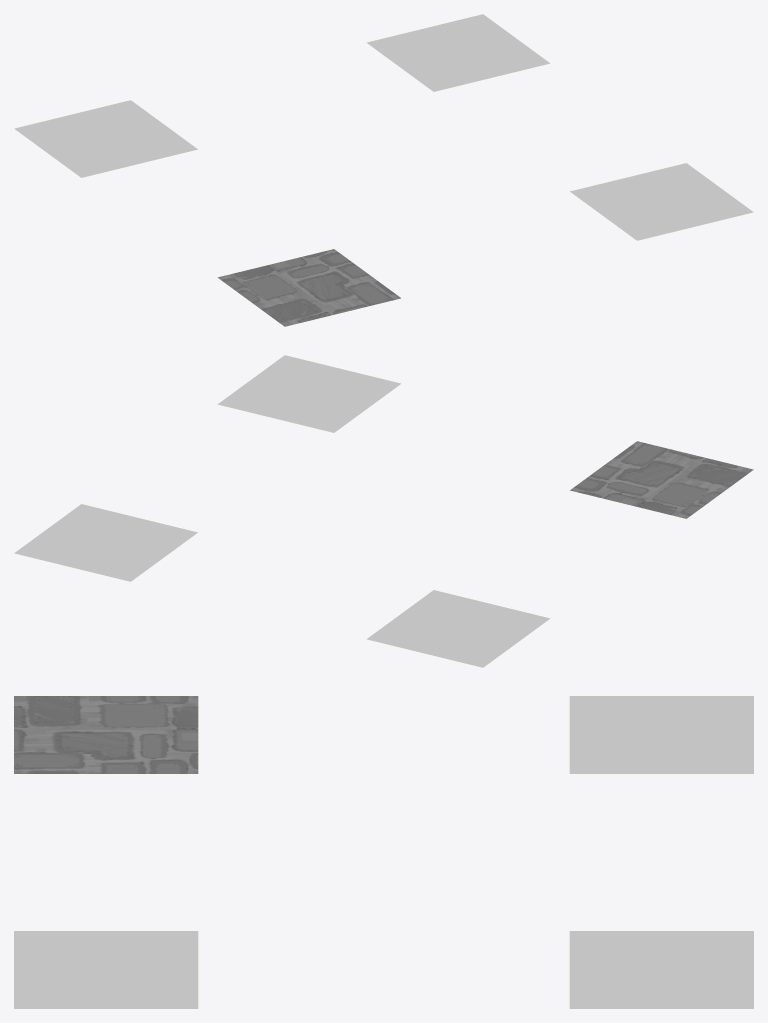
File: ship_props.glb
3 renders of one model, top to bottom at view 1: azimuth 30°, elevation 25°; view 2: azimuth 150°, elevation 25°; view 3: azimuth 270°, elevation 25°, orthographic. The views are drawn at different scales.
Visible parts, largest first — view 1: Plane, Plane.003, Plane.001, Plane.002; view 2: Plane.001, Plane.002, Plane, Plane.003; view 3: Plane, Plane.001, Plane.002, Plane.003.
Part boxes in pixels (bbox=[...]): Plane: bbox=[217, 249, 400, 326]; Plane.003: bbox=[367, 14, 550, 91]; Plane.001: bbox=[570, 163, 753, 240]; Plane.002: bbox=[14, 100, 197, 177]; Plane.001: bbox=[217, 355, 400, 432]; Plane.002: bbox=[367, 590, 550, 667]; Plane: bbox=[570, 441, 753, 518]; Plane.003: bbox=[14, 504, 197, 581]; Plane: bbox=[14, 696, 198, 773]; Plane.001: bbox=[14, 931, 198, 1008]; Plane.002: bbox=[569, 696, 753, 773]; Plane.003: bbox=[569, 931, 753, 1008].
Size of the model in its own units: 40.16 by 0 by 40.15.
Materials: 1 (1 with a texture image).
